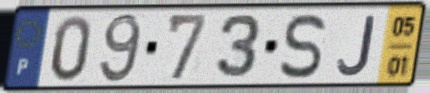0: (49, 12, 95, 85)
3: (214, 12, 265, 81)
7: (166, 12, 211, 83)
9: (97, 11, 146, 85)
J: (335, 13, 377, 78)
S: (276, 11, 329, 82)
